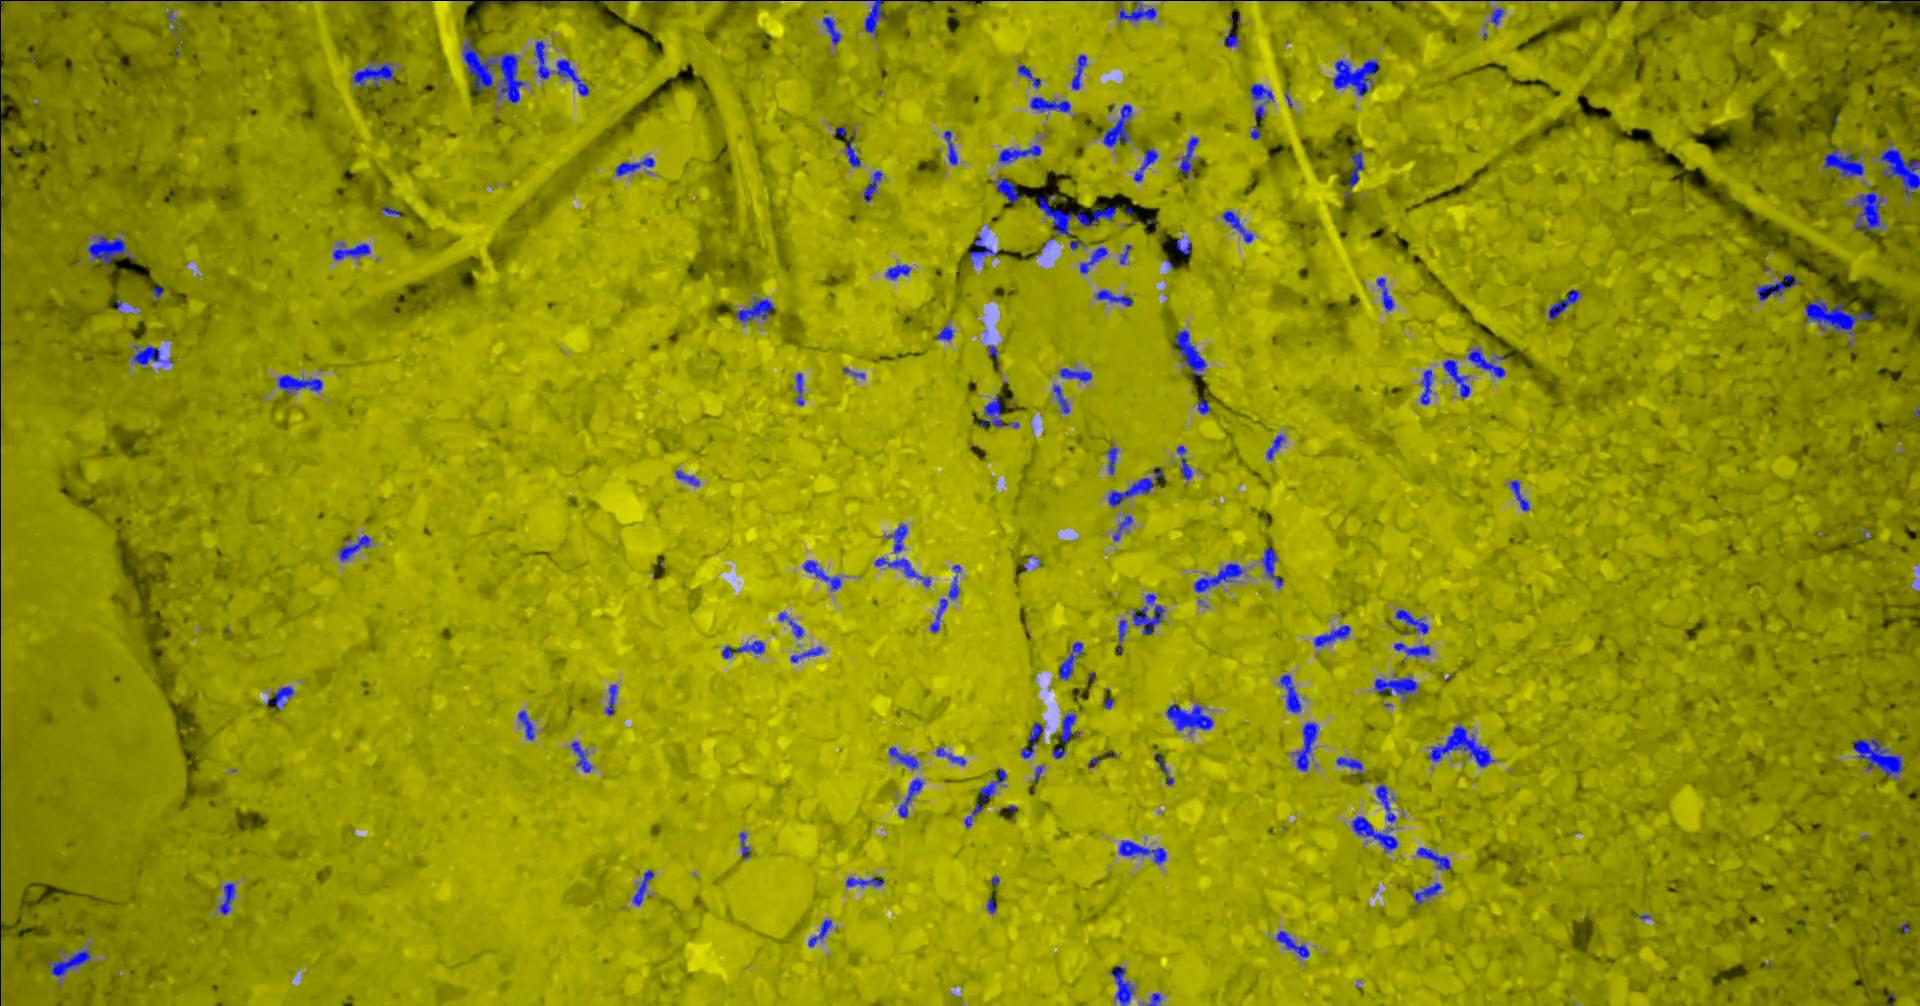ant: (1036, 194, 1116, 236), (1427, 725, 1495, 767), (1804, 296, 1874, 334), (964, 768, 1006, 827), (1107, 467, 1162, 507), (1853, 737, 1903, 779), (1879, 149, 1919, 196), (1332, 58, 1379, 95), (1351, 815, 1397, 851), (874, 558, 930, 586), (1192, 561, 1243, 592), (1175, 329, 1205, 377), (1164, 702, 1213, 732), (1131, 593, 1164, 634), (979, 395, 1018, 427), (1853, 191, 1883, 231), (1374, 674, 1417, 702), (1103, 104, 1131, 146), (556, 58, 588, 95), (1293, 721, 1317, 770), (88, 235, 126, 265), (803, 559, 841, 589), (1756, 273, 1799, 300), (47, 949, 90, 976), (1823, 147, 1863, 177), (1119, 840, 1166, 864), (1467, 348, 1505, 377), (1443, 359, 1470, 398), (1222, 210, 1253, 243), (897, 779, 923, 817), (1058, 641, 1083, 680), (352, 64, 392, 86), (1250, 83, 1272, 123), (1343, 151, 1363, 199), (735, 297, 773, 321), (1275, 930, 1309, 956), (1110, 965, 1133, 1005), (1548, 290, 1580, 318), (338, 533, 370, 561), (1261, 546, 1283, 587), (1279, 674, 1302, 713), (1020, 721, 1043, 758), (863, 0, 888, 34), (1117, 0, 1156, 22), (277, 373, 323, 391), (998, 144, 1040, 163), (1396, 608, 1429, 633), (1313, 625, 1350, 647), (968, 235, 998, 260), (1375, 784, 1396, 822), (721, 640, 764, 658), (1133, 149, 1157, 180), (132, 345, 171, 365), (632, 869, 653, 906), (1079, 246, 1107, 273), (1416, 847, 1450, 869), (615, 158, 654, 175), (1178, 137, 1197, 173), (331, 243, 370, 260), (1153, 752, 1173, 785), (1412, 882, 1441, 904), (888, 747, 918, 768), (1509, 479, 1529, 511), (570, 741, 590, 772), (1029, 97, 1070, 112), (885, 523, 907, 553), (777, 612, 803, 636), (996, 175, 1018, 202), (930, 598, 947, 633), (808, 920, 830, 946), (1095, 290, 1131, 306), (265, 686, 293, 708), (535, 39, 550, 79), (935, 746, 965, 765), (1377, 277, 1393, 311), (1176, 445, 1192, 479), (1393, 641, 1430, 657), (1060, 713, 1079, 742), (1017, 64, 1040, 88), (843, 133, 860, 166), (218, 882, 235, 915), (863, 170, 881, 201), (822, 17, 841, 44), (1070, 55, 1086, 89), (1051, 384, 1069, 413), (517, 710, 535, 739), (790, 647, 823, 662), (1112, 514, 1131, 540), (943, 130, 957, 164), (1418, 370, 1432, 404), (1336, 756, 1363, 774), (1059, 367, 1091, 381), (1266, 434, 1284, 459), (949, 564, 960, 600), (1115, 619, 1126, 653), (885, 264, 910, 279), (604, 683, 617, 714), (844, 876, 883, 887), (676, 470, 698, 485), (738, 832, 750, 857), (933, 324, 952, 340), (1107, 446, 1117, 474), (1225, 25, 1238, 47), (1119, 244, 1131, 264), (1175, 238, 1190, 254), (795, 372, 803, 405), (1197, 396, 1210, 414), (1490, 8, 1503, 23), (1145, 992, 1161, 1005), (985, 897, 996, 913), (1051, 747, 1064, 758)
